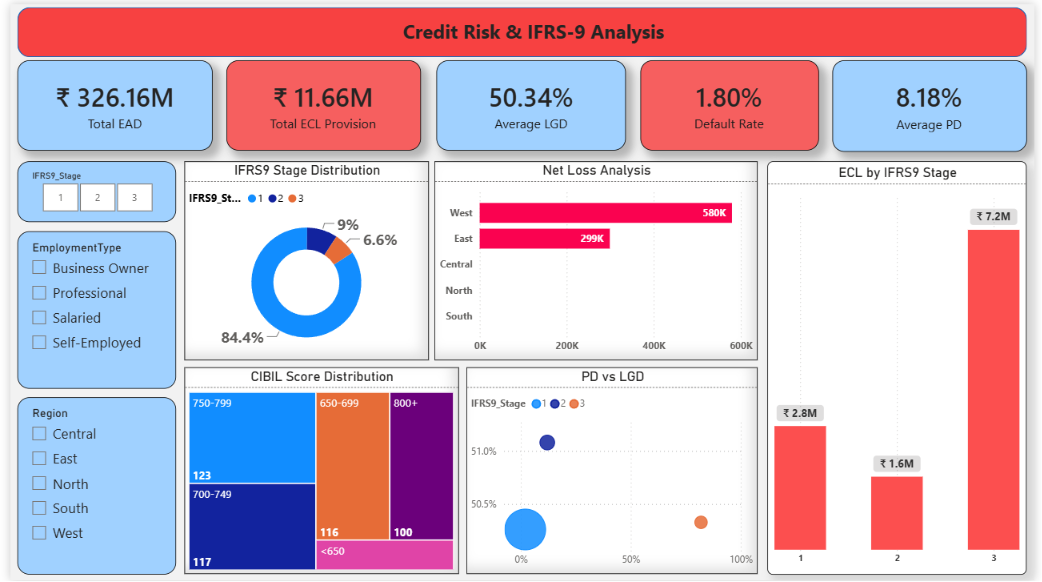

What the dashboard file says about the page in this screenshot:
{"tool":"powerbi","page":{"name":"Credit Risk & IFRS-9 Dashboard","canvas":[1280,720],"ordinal":4},"visuals":[{"type":"cardVisual","fields":{"Data":["auto_loan_securitisation_data.Total ECL Provision"]},"box":[270,70,242.9,112.9],"z":0},{"type":"cardVisual","fields":{"Data":["auto_loan_securitisation_data.Average PD"]},"box":[1027.1,70,242.9,114.3],"z":1000},{"type":"cardVisual","fields":{"Data":["auto_loan_securitisation_data.Average LGD"]},"box":[532.9,70,237.1,112.9],"z":2000},{"type":"cardVisual","fields":{"Data":["auto_loan_securitisation_data.Total EAD"]},"box":[8.6,70,244.3,112.9],"z":3000},{"type":"cardVisual","fields":{"Data":["auto_loan_securitisation_data.Default Rate"]},"box":[787.1,70,222.9,112.9],"z":4000},{"type":"donutChart","title":"IFRS9 Stage Distribution","fields":{"Category":["auto_loan_securitisation_data.IFRS9_Stage"],"Y":["auto_loan_securitisation_data.Total Loans"]},"box":[217.1,195.7,305.7,248.6],"z":5000},{"type":"clusteredColumnChart","title":"ECL by IFRS9 Stage","fields":{"Category":["auto_loan_securitisation_data.IFRS9_Stage"],"Y":["auto_loan_securitisation_data.Total ECL Provision"]},"box":[945.7,195.7,324.3,517.1],"z":6000},{"type":"scatterChart","title":"PD vs LGD","fields":{"Size":["Sum(auto_loan_securitisation_data.EAD)"],"Series":["auto_loan_securitisation_data.IFRS9_Stage"],"Y":["auto_loan_securitisation_data.Average LGD"],"X":["auto_loan_securitisation_data.Average PD"]},"box":[570,454.3,364.3,258.6],"z":7000},{"type":"treemap","title":"CIBIL Score Distribution","fields":{"Values":["auto_loan_securitisation_data.Total Loans"],"Group":["auto_loan_securitisation_data.CIBIL Band"]},"box":[217.1,454.3,342.9,258.6],"z":8000},{"type":"clusteredBarChart","title":"Net Loss Analysis","fields":{"Y":["Sum(auto_loan_securitisation_data.NetLoss)"],"Category":["auto_loan_securitisation_data.Region"]},"box":[530,195.7,404.3,248.6],"z":9000},{"type":"shape","box":[8.6,3.7,1262,62.4],"z":10000},{"type":"textbox","box":[471.4,12.9,365.7,51.4],"z":11000},{"type":"slicer","fields":{"Values":["auto_loan_securitisation_data.IFRS9_Stage"]},"box":[8.6,195.7,198.6,75.7],"z":12000},{"type":"slicer","fields":{"Values":["auto_loan_securitisation_data.Region"]},"box":[8.6,491.4,198.6,221.4],"z":13000},{"type":"slicer","fields":{"Values":["auto_loan_securitisation_data.EmploymentType"]},"box":[8.6,284.3,198.6,197.1],"z":14000}]}

Visuals, with their boxes in screenshot pixels (x1, y1, x2, y2), scaled from the page's 1280x720 canvas onto the 1042x582 screenshot:
cardVisual - auto_loan_securitisation_data.Total ECL Provision: region(220, 57, 418, 148)
cardVisual - auto_loan_securitisation_data.Average PD: region(836, 57, 1034, 149)
cardVisual - auto_loan_securitisation_data.Average LGD: region(434, 57, 627, 148)
cardVisual - auto_loan_securitisation_data.Total EAD: region(7, 57, 206, 148)
cardVisual - auto_loan_securitisation_data.Default Rate: region(641, 57, 822, 148)
"IFRS9 Stage Distribution" donutChart: region(177, 158, 426, 359)
"ECL by IFRS9 Stage" clusteredColumnChart: region(770, 158, 1034, 576)
"PD vs LGD" scatterChart: region(464, 367, 761, 576)
"CIBIL Score Distribution" treemap: region(177, 367, 456, 576)
"Net Loss Analysis" clusteredBarChart: region(431, 158, 761, 359)
shape: region(7, 3, 1034, 53)
textbox: region(384, 10, 681, 52)
slicer - auto_loan_securitisation_data.IFRS9_Stage: region(7, 158, 169, 219)
slicer - auto_loan_securitisation_data.Region: region(7, 397, 169, 576)
slicer - auto_loan_securitisation_data.EmploymentType: region(7, 230, 169, 389)
